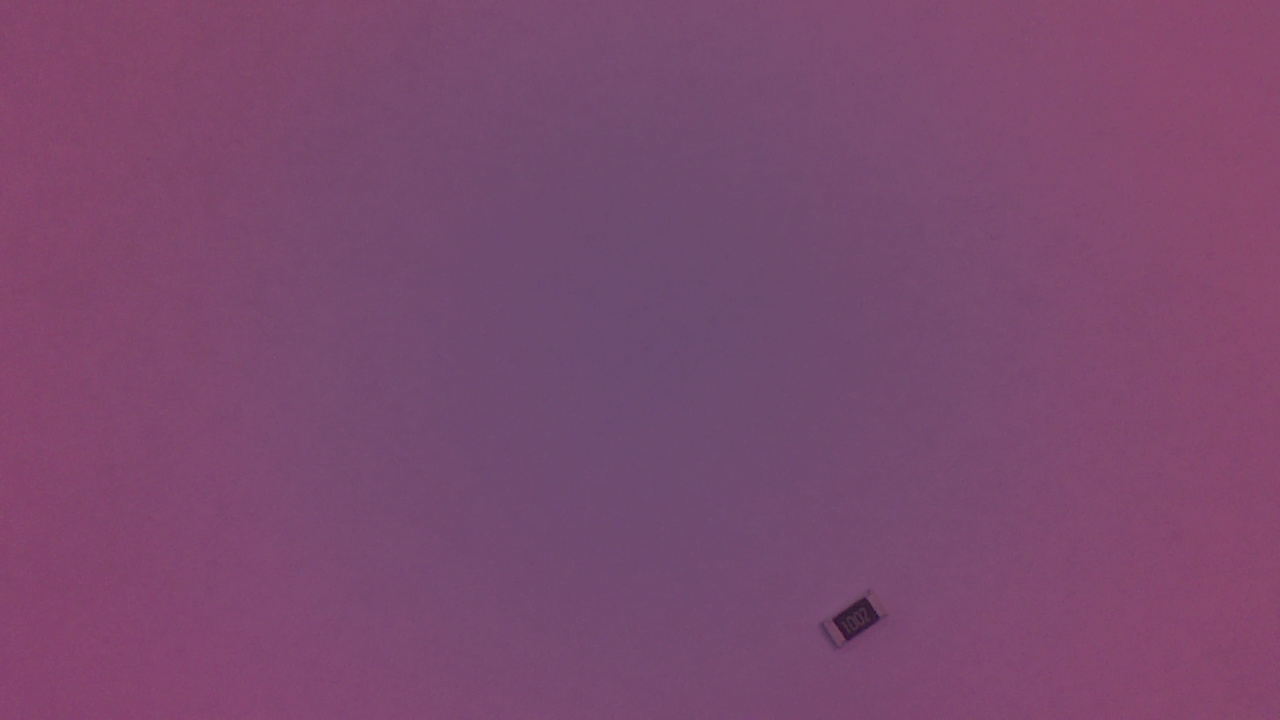Resistor: (818, 589, 899, 657)
